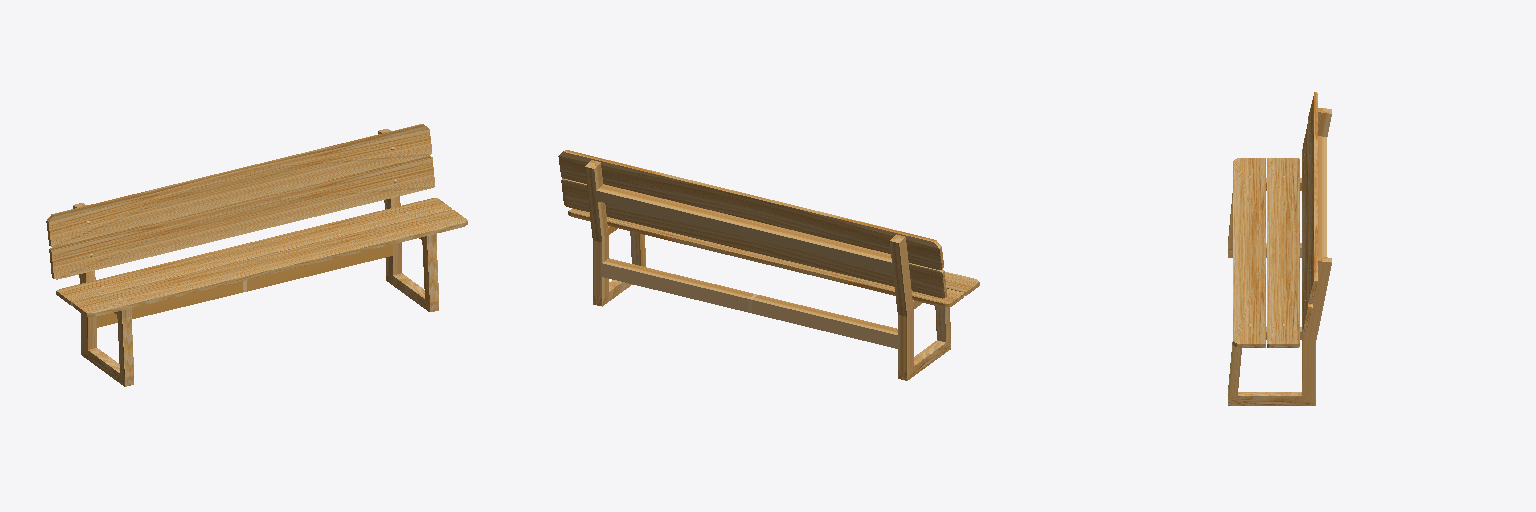
3 views of the same model, side by side, from view 1: azimuth 30°, elevation 25°; view 2: azimuth 150°, elevation 25°; view 3: azimuth 270°, elevation 25° (orthographic).
Visible parts, largest first — view 1: Cylinder_003; view 2: Cylinder_003; view 3: Cylinder_003.
Part boxes in pixels (x1,y1,x2,y2): Cylinder_003: (46, 124, 467, 386); Cylinder_003: (558, 150, 979, 380); Cylinder_003: (1228, 92, 1331, 405).
Size of the model in its own units: 3.71 by 1.37 by 0.8785.
Materials: 1 (1 with a texture image).